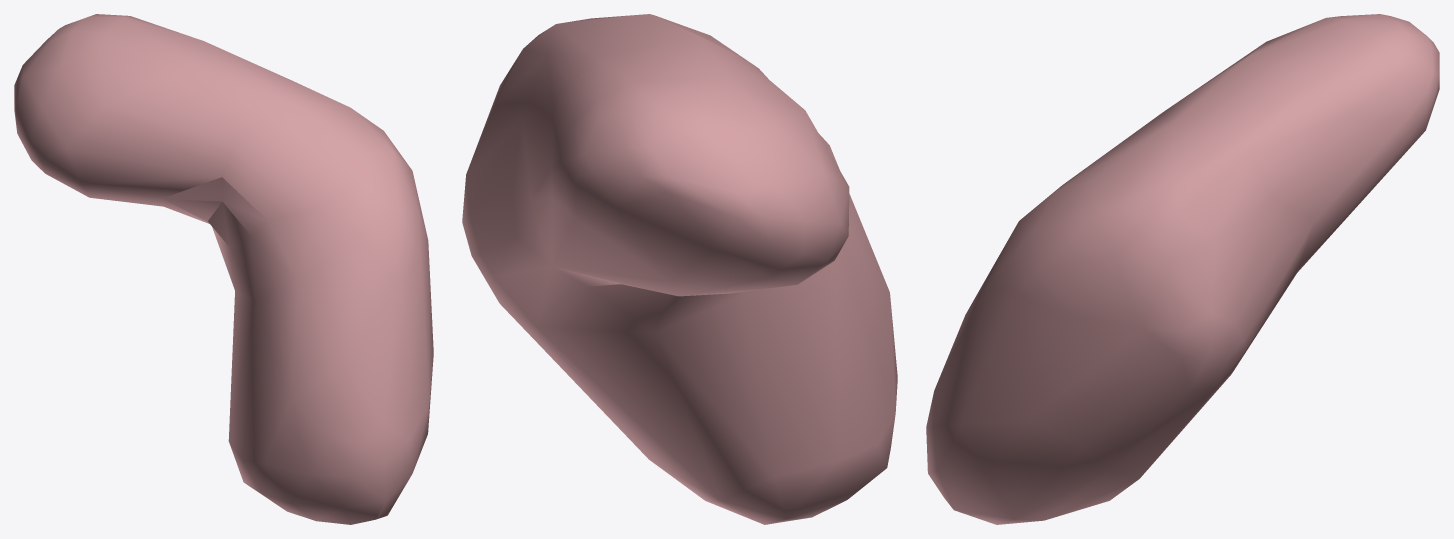
The model's file is fma16983_fj2620.glb.
3 views of the same model, side by side, from view 1: azimuth 30°, elevation 25°; view 2: azimuth 150°, elevation 25°; view 3: azimuth 270°, elevation 25° (orthographic). The views are drawn at different scales.
Parts seen in each view (by area): view 1: FMA16983_FJ2620; view 2: FMA16983_FJ2620; view 3: FMA16983_FJ2620.
Boxes of the visible parts, left/top/right/bottom form: FMA16983_FJ2620: left=14, top=14, right=433, bottom=524; FMA16983_FJ2620: left=462, top=14, right=897, bottom=524; FMA16983_FJ2620: left=926, top=14, right=1439, bottom=524.
Bounding box in the file's own units: 0.0334 × 0.0413 × 0.0429.
